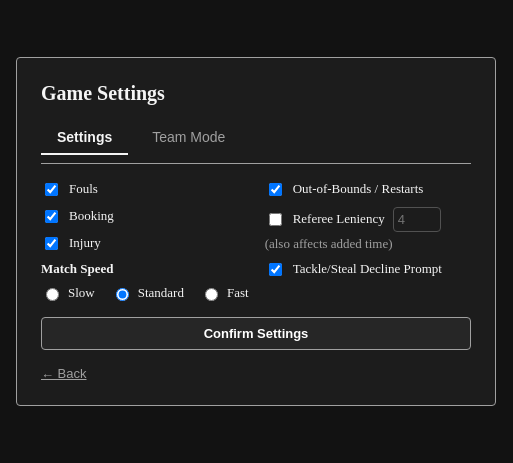
GameSettingsScreen — Confirm disabled state (D-06) › Confirm becomes disabled when all enabled pools are unchecked, then re-enables after checking one
This screenshot has width=513, height=463.
Click the tab "Team Mode": (189, 138) [136,120,241,154]
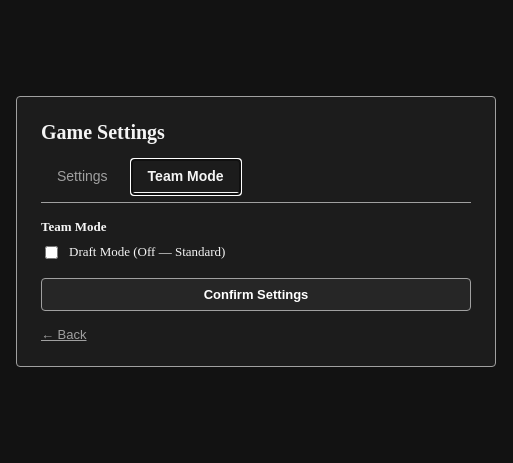
Click the switch: (52, 252) [45,246,58,258]
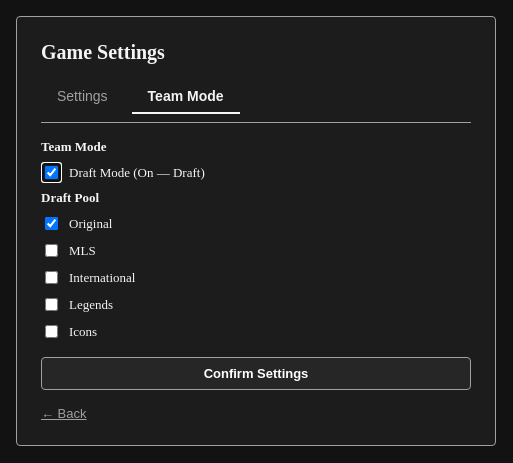
Click the checkbox labelled "Original": (52, 224) [45,217,58,230]
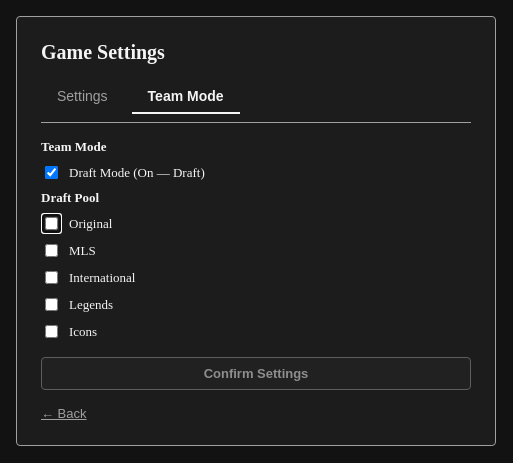
Expected: the button "Confirm Settings" is disabled, [41,357,471,390]
Click the checkbox labelled "MLS": (52, 250) [45,244,58,257]
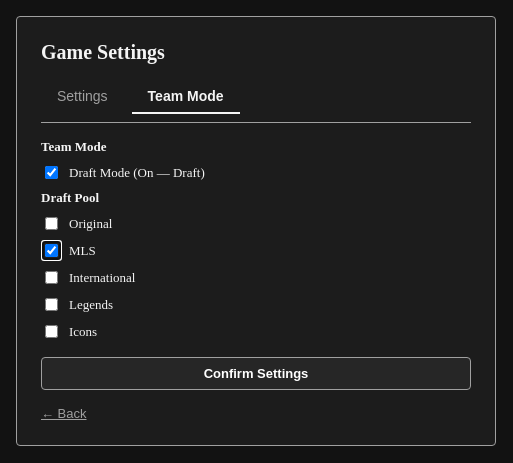
Expected: the button "Confirm Settings" is enabled, [41,357,471,390]
